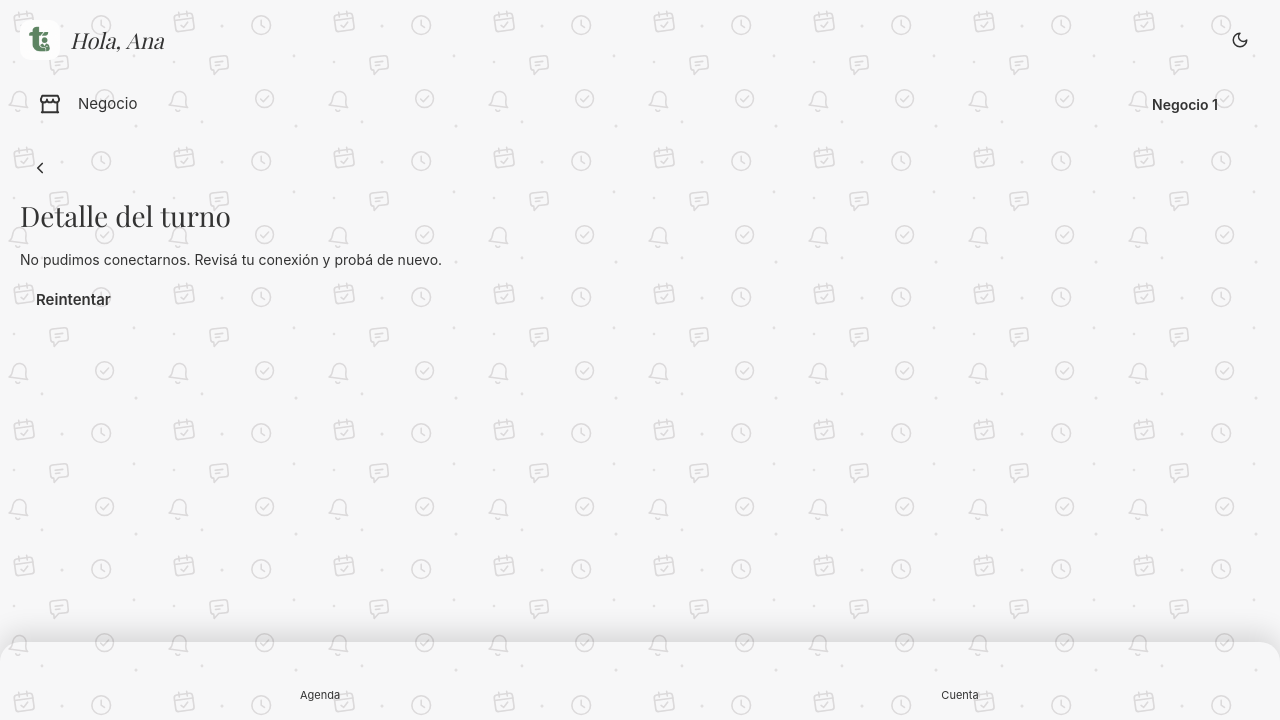
DetalleTurnoPro › error sin datos: mensaje del tipo de error y reintento
Expected: the message shows "No pudimos conectarnos", [20,251,442,268]
Click the button "Reintentar". click: (73, 300)
box: [20,278,127,322]
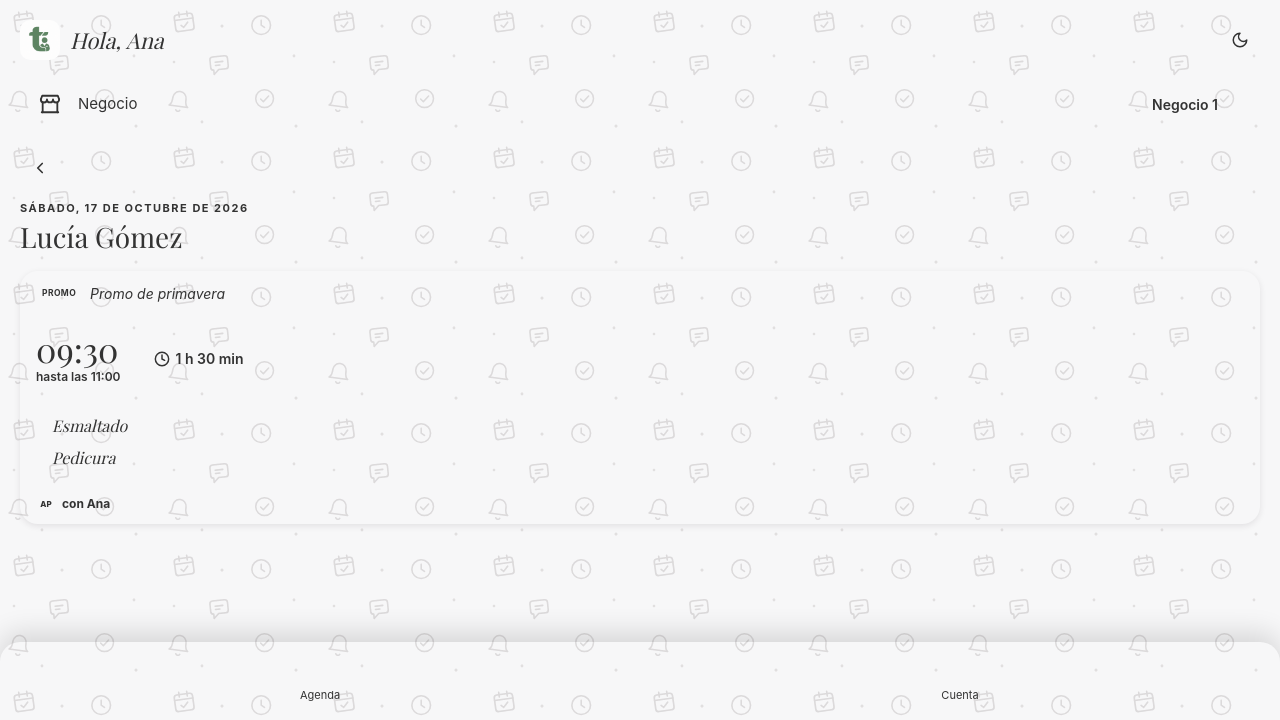
Now the heading "Lucía Gómez" is shown, box [20,218,182,254]
